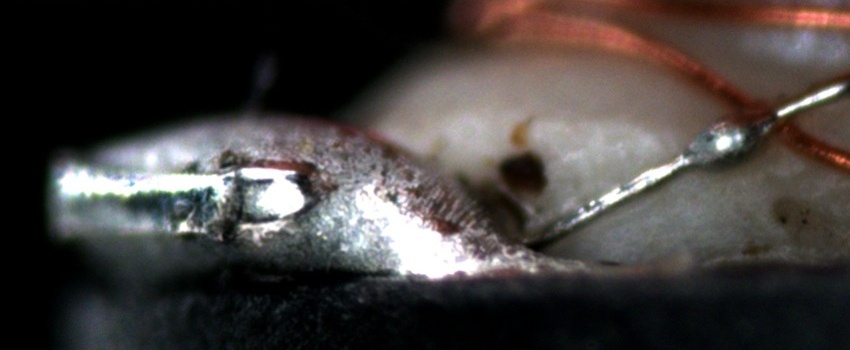CL: (713, 68, 832, 164)
DL: (517, 111, 686, 142)
TB: (686, 114, 760, 171)
TS: (520, 82, 847, 244)
TTCW: (518, 71, 849, 252)
